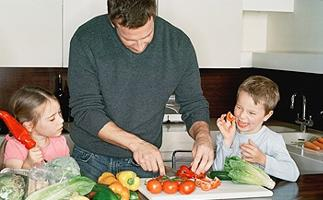person: (67, 1, 215, 180)
